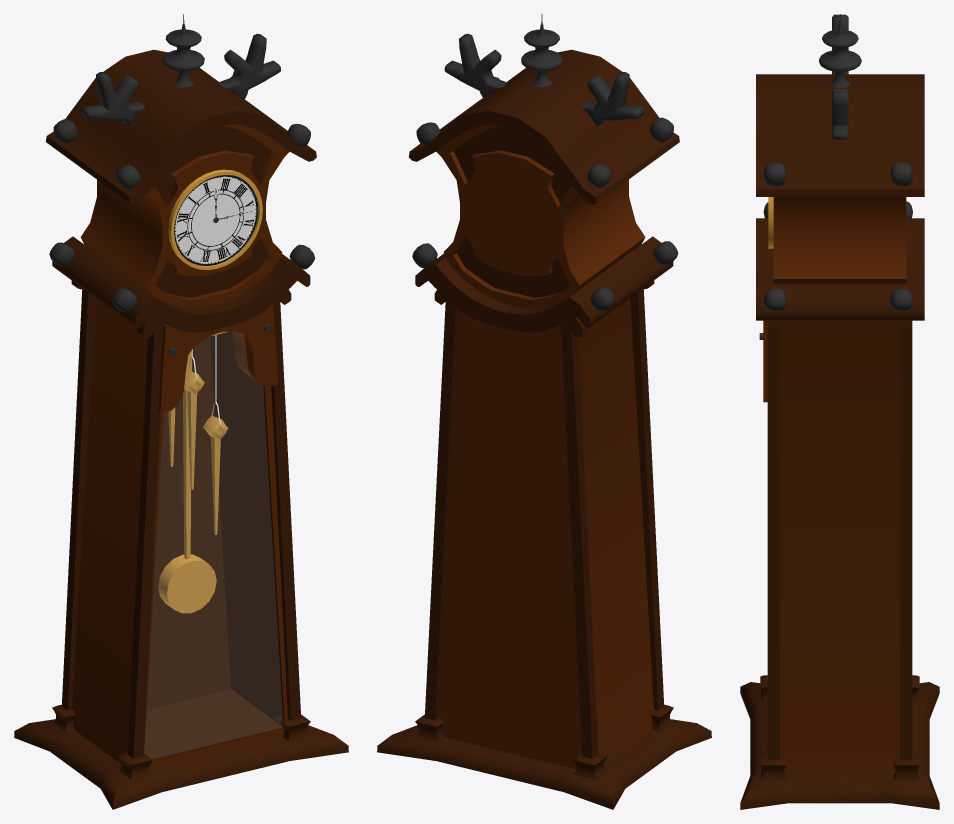
Rendered from Relogio.fbx.
3 renders of one model, left to right at view 1: azimuth 30°, elevation 25°; view 2: azimuth 150°, elevation 25°; view 3: azimuth 270°, elevation 25°, orthographic.
Visible parts, largest first — view 1: Relogio; view 2: Relogio; view 3: Relogio.
Part boxes in pixels (box(x1,y1,x2,y2)): Relogio: box(14, 14, 348, 809); Relogio: box(377, 14, 711, 809); Relogio: box(740, 14, 939, 809).
Bounding box in the file's own units: 1440 × 4256 × 1041.
